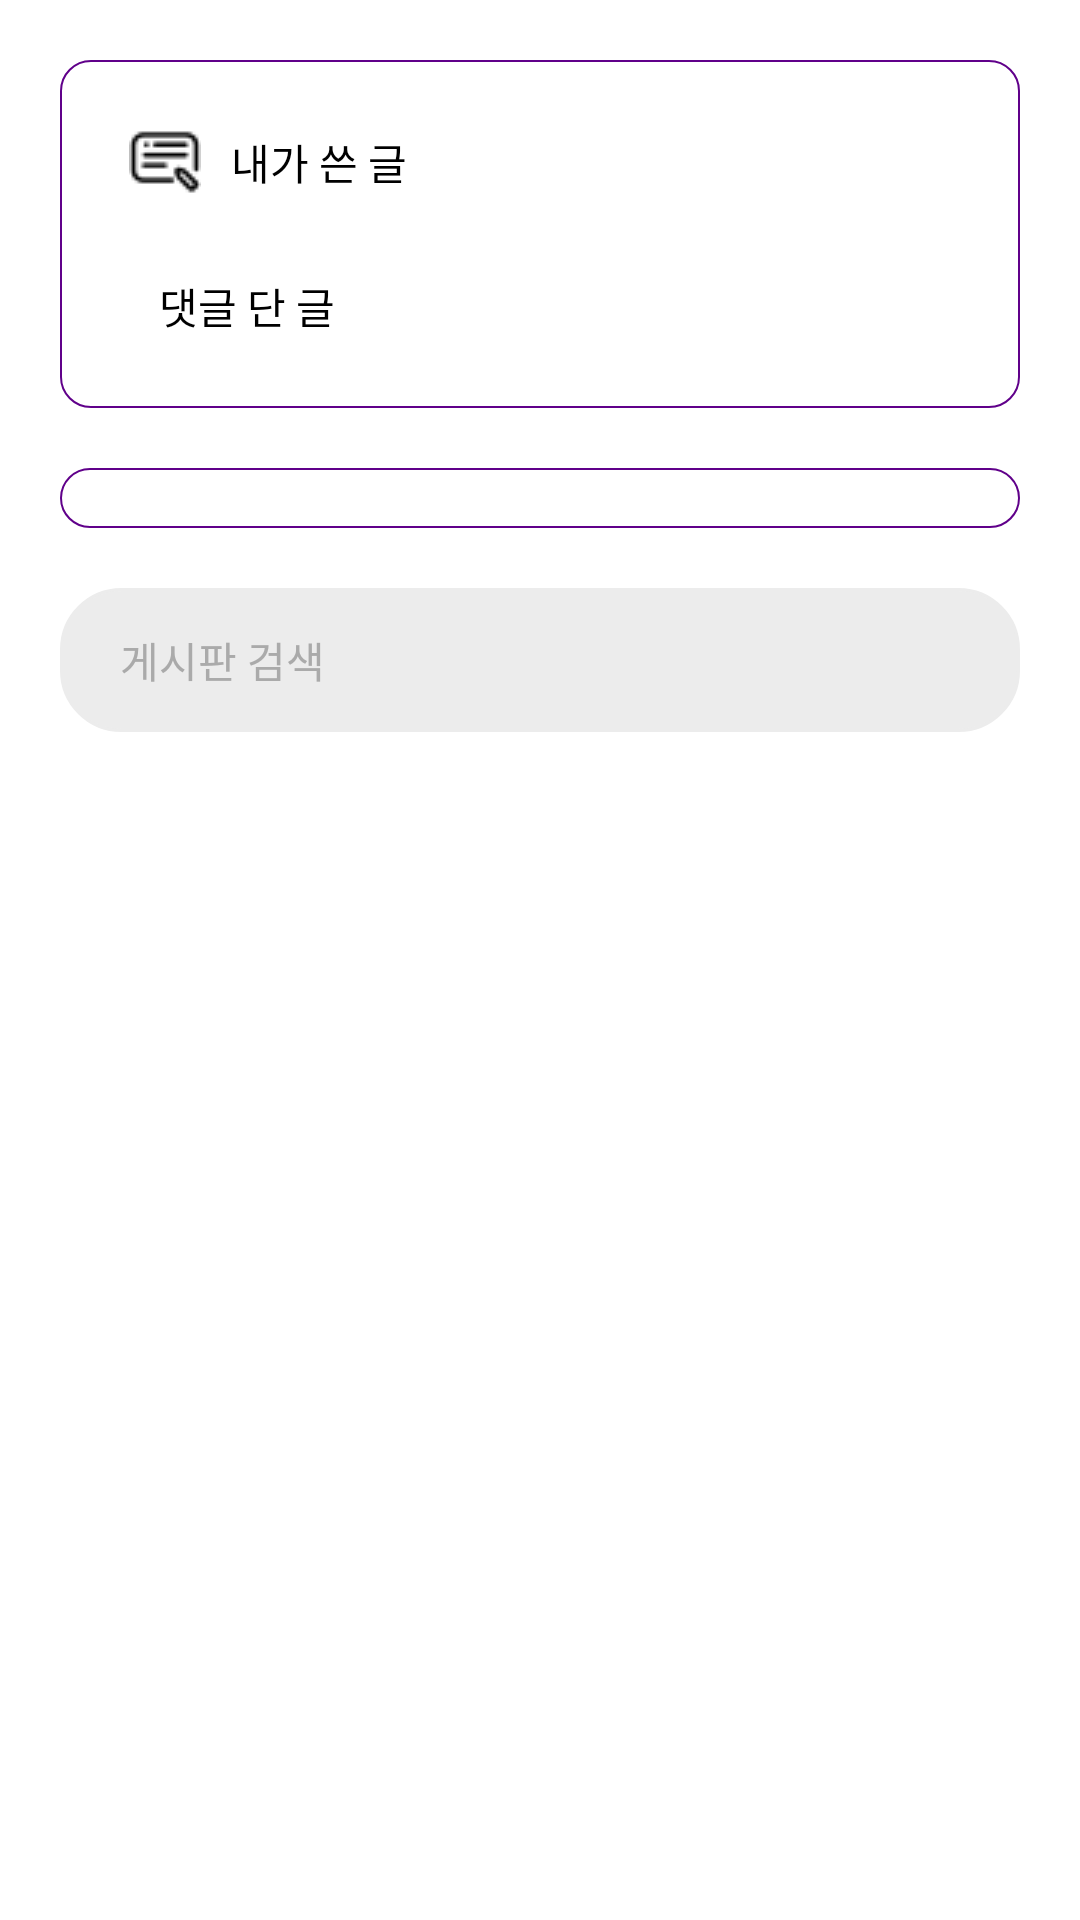

Icon click points for this 1080x1920 phone screenshot, format (x,y):
myarticle general: (165,162)
